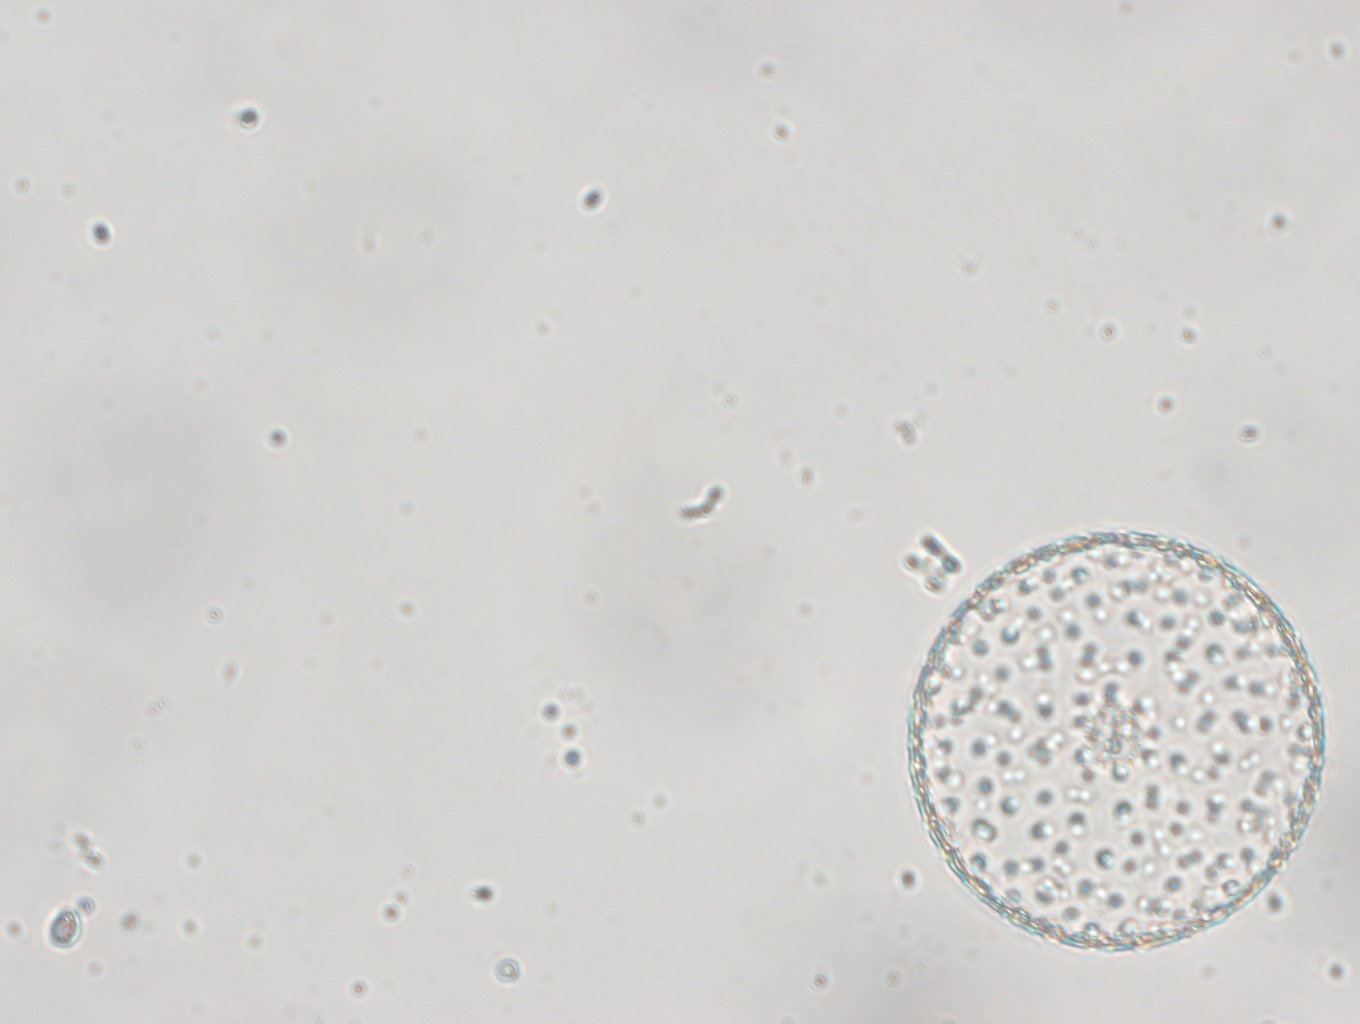coscinodiscus: (903, 525, 1325, 955)
